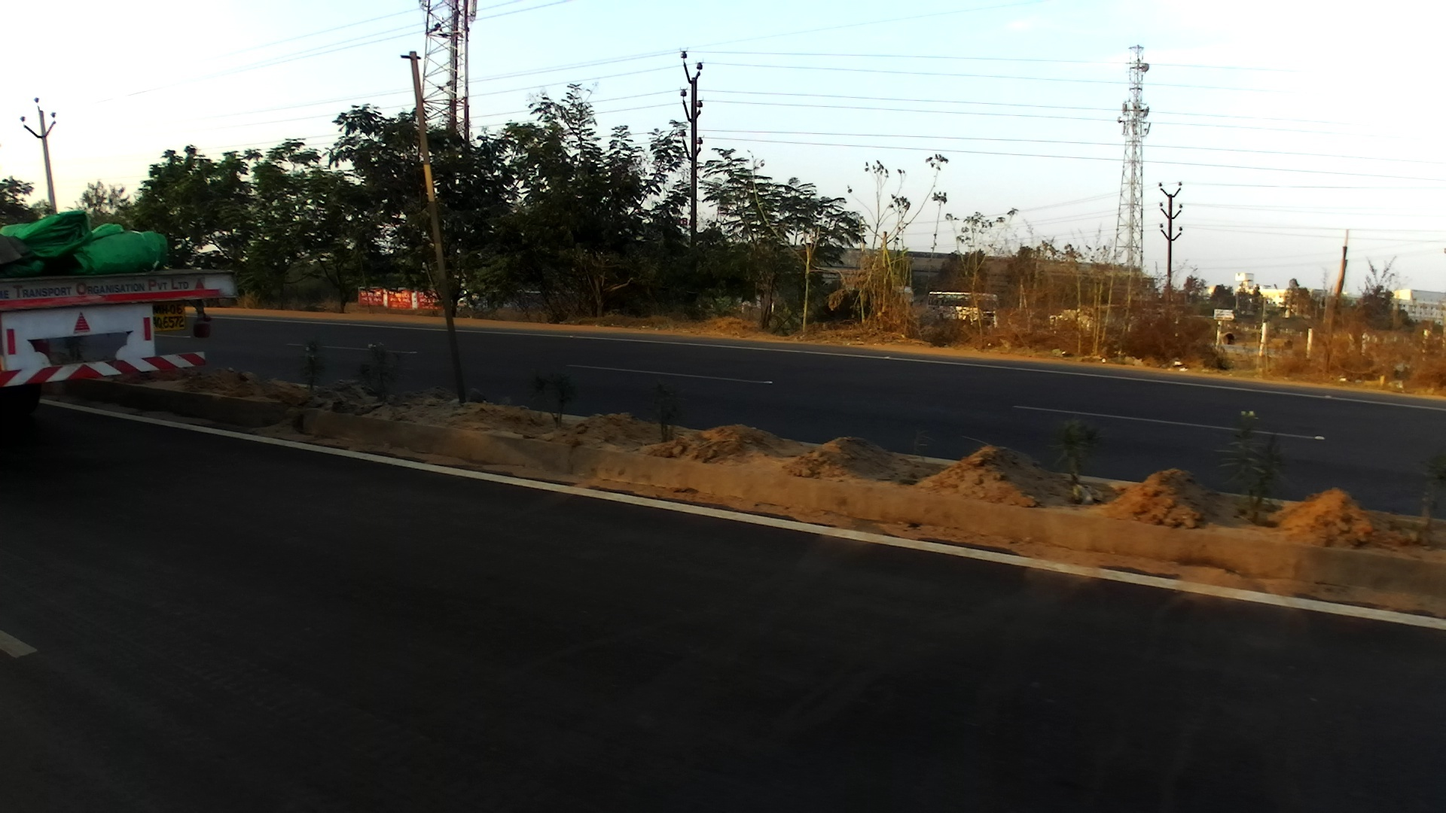vehicle fallback: (3, 211, 240, 427)
